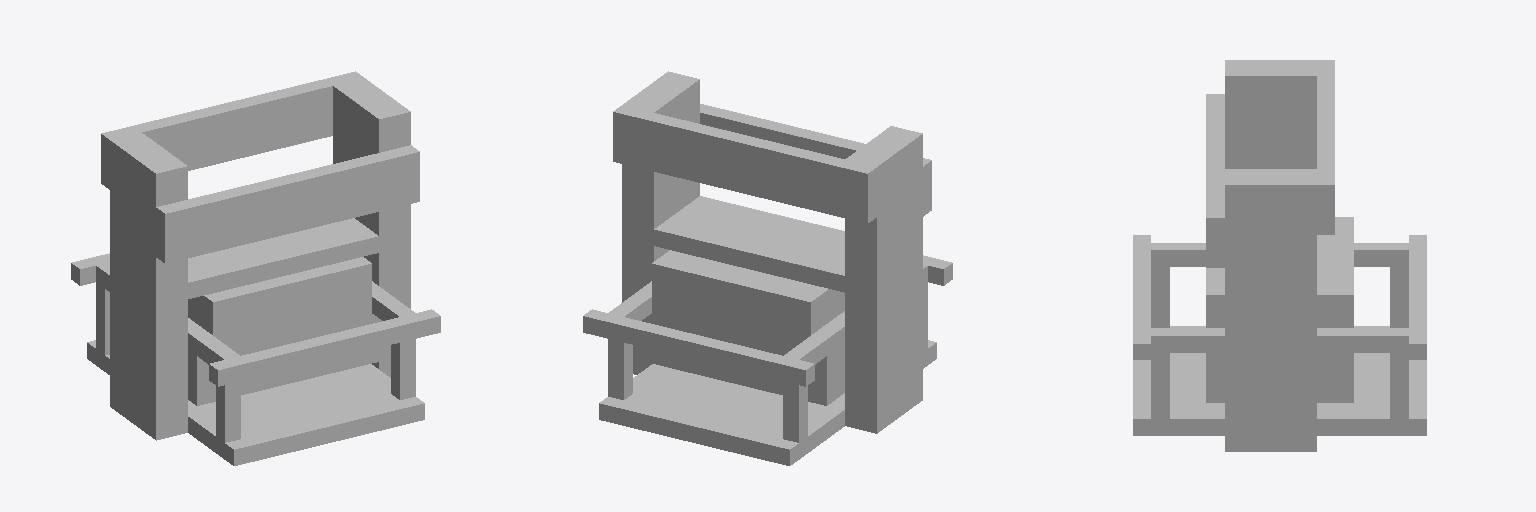
File: clothing_loom.obj
3 renders of one model, left to right at view 1: azimuth 30°, elevation 25°; view 2: azimuth 150°, elevation 25°; view 3: azimuth 270°, elevation 25°, orthographic.
Parts seen in each view (by area): view 1: loom_node_0_0_0.006_loom, active_node_0_0_0.007_active; view 2: loom_node_0_0_0.006_loom, active_node_0_0_0.007_active; view 3: loom_node_0_0_0.006_loom, active_node_0_0_0.007_active.
Boxes of the visible parts, x1=… form: loom_node_0_0_0.006_loom: x1=87, y1=78, x2=440, y2=465; active_node_0_0_0.007_active: x1=71, y1=71, x2=419, y2=285; loom_node_0_0_0.006_loom: x1=599, y1=71, x2=952, y2=465; active_node_0_0_0.007_active: x1=583, y1=104, x2=931, y2=386; loom_node_0_0_0.006_loom: x1=1133, y1=60, x2=1426, y2=451; active_node_0_0_0.007_active: x1=1206, y1=60, x2=1426, y2=359.
Bounding box in the file's own units: 1 × 1 × 1.